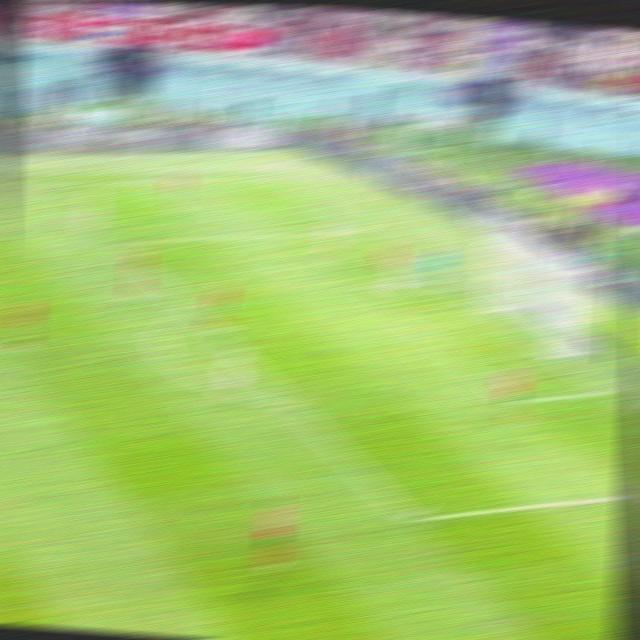bigarea_bottom_inner: (394, 503, 428, 534)
bigarea_top_inner: (101, 232, 129, 252)
bigarea_top_outter: (346, 222, 372, 237)
bottom_arc_area_intersection: (276, 392, 305, 416)
corner: (265, 170, 293, 184)
smallarea_bottom_outter: (593, 380, 622, 403)
smallarea_top_inner: (344, 276, 372, 296)
smallarea_top_outter: (427, 273, 452, 289)
top_arc_area_intersection: (172, 296, 202, 319)
